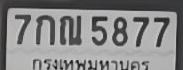5: (91, 15, 108, 46)
7: (153, 16, 170, 48), (132, 16, 149, 48), (14, 13, 31, 45)
8: (111, 16, 128, 46)
A01: (35, 14, 56, 46)
A19: (59, 14, 82, 46)
BKK: (29, 56, 151, 70)
